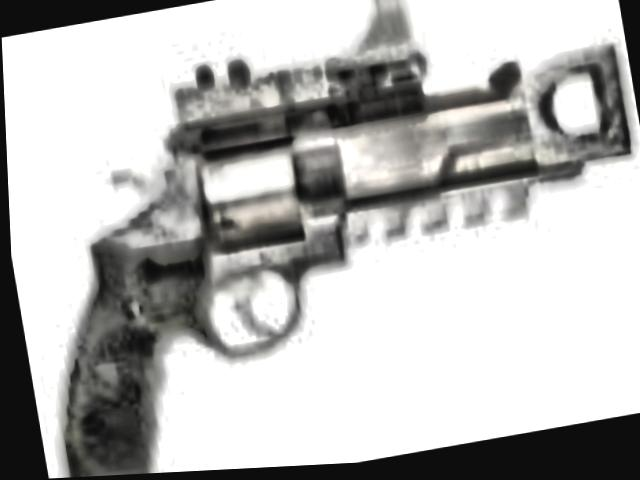pistol: (1, 2, 640, 480)
